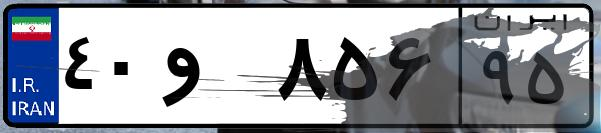0: (110, 28, 158, 98)
4: (57, 26, 110, 100)
5: (330, 28, 385, 110), (525, 38, 570, 115)
6: (385, 28, 445, 110)
8: (270, 28, 330, 110)
9: (475, 38, 525, 113)
و: (158, 20, 270, 120)
